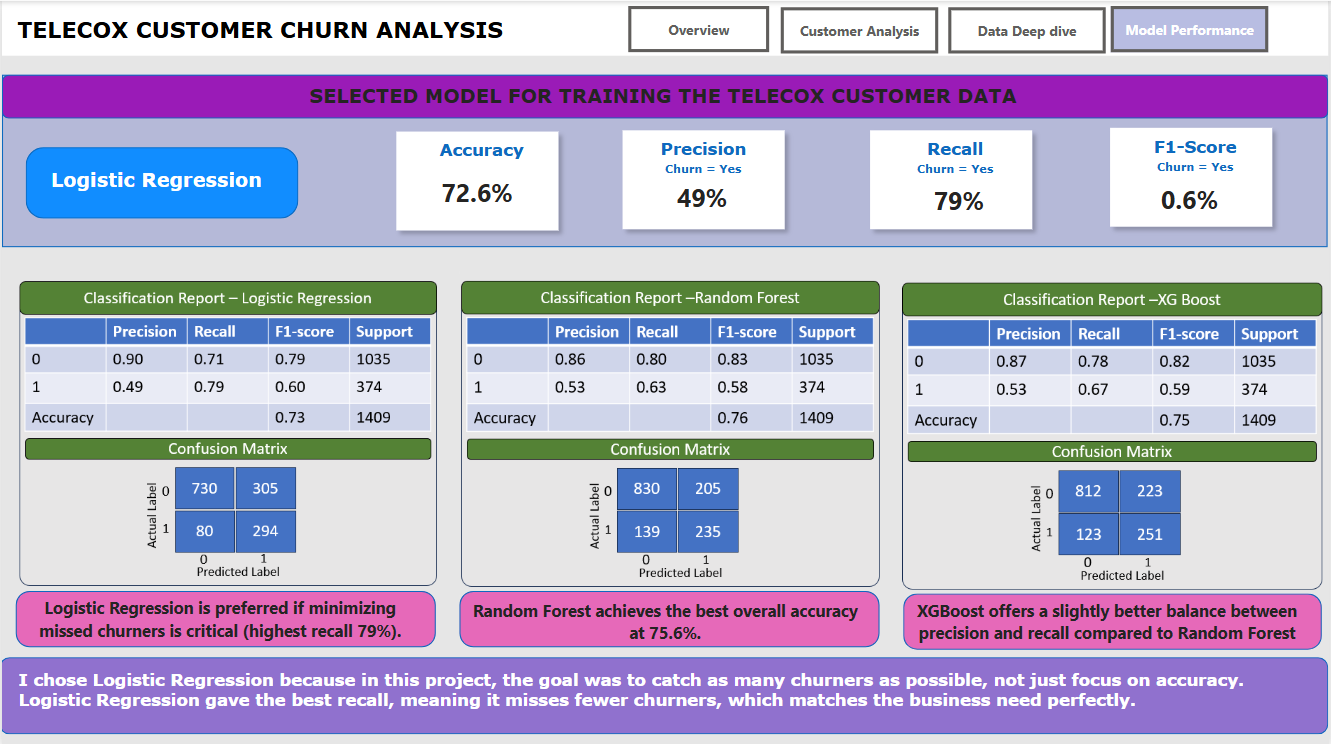

The page's visual inventory and layout, read from the dashboard file:
{"tool":"powerbi","page":{"name":"Model Performance","canvas":[1280,720],"ordinal":3},"visuals":[{"type":"shape","box":[0,0,1280,53.1],"z":0,"group":"g5"},{"type":"shape","box":[0,71.2,1280,166.5],"z":0},{"type":"group","id":"g1","title":"Group 1","box":[1060.5,113.4,174.5,113.4],"z":0,"group":"g7"},{"type":"shape","box":[1060.5,113.4,174.5,113.4],"z":0,"group":"g1"},{"type":"group","id":"g2","title":"Group 1","box":[589.7,115.3,174.5,113.4],"z":0,"group":"g9"},{"type":"shape","box":[589.7,115.3,174.5,113.4],"z":0,"group":"g2"},{"type":"group","id":"g3","title":"Group 1","box":[828.8,116.3,174.5,113.4],"z":0,"group":"g8"},{"type":"shape","box":[828.8,116.3,174.5,113.4],"z":0,"group":"g3"},{"type":"group","id":"g4","title":"Group 1","box":[371.6,117,174.9,113.4],"z":0,"group":"g6"},{"type":"shape","box":[371.6,117,174.5,113.4],"z":0,"group":"g4"},{"type":"textbox","box":[10,10,596,43.4],"z":1000,"group":"g5"},{"type":"textbox","box":[1073.8,125.5,155.6,51.9],"z":1000,"group":"g1"},{"type":"textbox","box":[594.5,127.4,164.1,49.7],"z":1000,"group":"g2"},{"type":"textbox","box":[842.1,128.4,155.6,49.5],"z":1000,"group":"g3"},{"type":"textbox","box":[384.4,129.2,155.7,32.4],"z":1000,"group":"g4"},{"type":"textbox","box":[397.6,163.5,120.6,45.8],"z":1000,"group":"g6"},{"type":"textbox","box":[615,168.4,120.6,44.2],"z":1000,"group":"g9"},{"type":"textbox","box":[1085.8,170.1,120.6,44.9],"z":1000,"group":"g7"},{"type":"textbox","box":[872.5,171.8,102.3,42.2],"z":1000,"group":"g8"},{"type":"group","id":"g5","title":"Group 1","box":[0,0,1280,53.4],"z":2000},{"type":"actionButton","box":[604.4,4.8,136.3,44.6],"z":2000,"group":"g5"},{"type":"actionButton","box":[751.6,6,152,44.6],"z":3000},{"type":"actionButton","box":[913.3,6,152,44.6],"z":4000},{"type":"actionButton","box":[1070.1,4.8,152,44.6],"z":5000},{"type":"group","id":"g6","title":"Group 2","box":[371.6,117,174.9,113.4],"z":6000},{"type":"shape","box":[0,71.2,1280,42.2],"z":7000},{"type":"textbox","box":[0,74.8,1280,43.4],"z":8000},{"type":"group","id":"g7","title":"Group 2","box":[1060.5,113.4,174.5,113.4],"z":9000},{"type":"group","id":"g8","title":"Group 2","box":[828.8,116.3,174.5,113.4],"z":10000},{"type":"group","id":"g9","title":"Group 2","box":[589.7,115.3,174.5,113.4],"z":11000},{"type":"group","id":"g10","title":"Group 3","box":[22.4,141.2,263,68.8],"z":12000},{"type":"image","box":[0,242.5,446.4,353.5],"z":13000},{"type":"image","box":[427.1,223.2,433.1,390.9],"z":14000},{"type":"shape","box":[22.4,141.2,263,68.8],"z":14500,"group":"g10"},{"type":"textbox","box":[41.9,153.5,229.2,53.1],"z":15000,"group":"g10"},{"type":"image","box":[860.2,187,419.8,463.3],"z":15000},{"type":"shape","box":[13.3,569.4,405.4,54.3],"z":16000,"group":"g11"},{"type":"shape","box":[441.8,569.4,405.4,54.3],"z":16000,"group":"g12"},{"type":"shape","box":[869.8,571.9,404.2,54.3],"z":16000,"group":"g13"},{"type":"shape","box":[-2.4,633.4,1282.4,74.8],"z":16000,"group":"g14"},{"type":"textbox","box":[13.3,569.4,394.5,54.3],"z":17000,"group":"g11"},{"type":"textbox","box":[443,571.8,394.5,54.3],"z":17000,"group":"g12"},{"type":"textbox","box":[869.8,571.9,393.3,54.3],"z":17000,"group":"g13"},{"type":"textbox","box":[10.4,640.6,1235.2,67.6],"z":17000,"group":"g14"},{"type":"group","id":"g11","title":"Group 4","box":[13.3,569.4,405.4,54.3],"z":17001},{"type":"group","id":"g12","title":"Group 4","box":[441.8,569.4,405.4,56.7],"z":17002},{"type":"group","id":"g13","title":"Group 4","box":[869.8,571.9,404.2,54.3],"z":17003},{"type":"group","id":"g14","title":"Group 4","box":[-2.4,633.4,1282.4,74.8],"z":17004}]}

Visuals, with their boxes in screenshot pixels (x1, y1, x2, y2), scaled from the page's 1280x720 canvas onto the 1331x744 screenshot:
shape: pyautogui.locateOnScreen(0, 0, 1330, 55)
shape: pyautogui.locateOnScreen(0, 74, 1330, 246)
"Group 1" group: pyautogui.locateOnScreen(1103, 117, 1284, 234)
shape: pyautogui.locateOnScreen(1103, 117, 1284, 234)
"Group 1" group: pyautogui.locateOnScreen(613, 119, 795, 236)
shape: pyautogui.locateOnScreen(613, 119, 795, 236)
"Group 1" group: pyautogui.locateOnScreen(862, 120, 1043, 237)
shape: pyautogui.locateOnScreen(862, 120, 1043, 237)
"Group 1" group: pyautogui.locateOnScreen(386, 121, 568, 238)
shape: pyautogui.locateOnScreen(386, 121, 568, 238)
textbox: pyautogui.locateOnScreen(10, 10, 630, 55)
textbox: pyautogui.locateOnScreen(1117, 130, 1278, 183)
textbox: pyautogui.locateOnScreen(618, 132, 789, 183)
textbox: pyautogui.locateOnScreen(876, 133, 1037, 184)
textbox: pyautogui.locateOnScreen(400, 134, 562, 167)
textbox: pyautogui.locateOnScreen(413, 169, 539, 216)
textbox: pyautogui.locateOnScreen(640, 174, 765, 220)
textbox: pyautogui.locateOnScreen(1129, 176, 1254, 222)
textbox: pyautogui.locateOnScreen(907, 178, 1014, 221)
"Group 1" group: pyautogui.locateOnScreen(0, 0, 1330, 55)
actionButton: pyautogui.locateOnScreen(628, 5, 770, 51)
actionButton: pyautogui.locateOnScreen(782, 6, 940, 52)
actionButton: pyautogui.locateOnScreen(950, 6, 1108, 52)
actionButton: pyautogui.locateOnScreen(1113, 5, 1271, 51)
"Group 2" group: pyautogui.locateOnScreen(386, 121, 568, 238)
shape: pyautogui.locateOnScreen(0, 74, 1330, 117)
textbox: pyautogui.locateOnScreen(0, 77, 1330, 122)
"Group 2" group: pyautogui.locateOnScreen(1103, 117, 1284, 234)
"Group 2" group: pyautogui.locateOnScreen(862, 120, 1043, 237)
"Group 2" group: pyautogui.locateOnScreen(613, 119, 795, 236)
"Group 3" group: pyautogui.locateOnScreen(23, 146, 297, 217)
image: pyautogui.locateOnScreen(0, 251, 464, 616)
image: pyautogui.locateOnScreen(444, 231, 894, 635)
shape: pyautogui.locateOnScreen(23, 146, 297, 217)
textbox: pyautogui.locateOnScreen(44, 159, 282, 213)
image: pyautogui.locateOnScreen(894, 193, 1330, 672)
shape: pyautogui.locateOnScreen(14, 588, 435, 644)
shape: pyautogui.locateOnScreen(459, 588, 881, 644)
shape: pyautogui.locateOnScreen(904, 591, 1325, 647)
shape: pyautogui.locateOnScreen(0, 655, 1330, 732)
textbox: pyautogui.locateOnScreen(14, 588, 424, 644)
textbox: pyautogui.locateOnScreen(461, 591, 871, 647)
textbox: pyautogui.locateOnScreen(904, 591, 1313, 647)
textbox: pyautogui.locateOnScreen(11, 662, 1295, 732)
"Group 4" group: pyautogui.locateOnScreen(14, 588, 435, 644)
"Group 4" group: pyautogui.locateOnScreen(459, 588, 881, 647)
"Group 4" group: pyautogui.locateOnScreen(904, 591, 1325, 647)
"Group 4" group: pyautogui.locateOnScreen(0, 655, 1330, 732)
